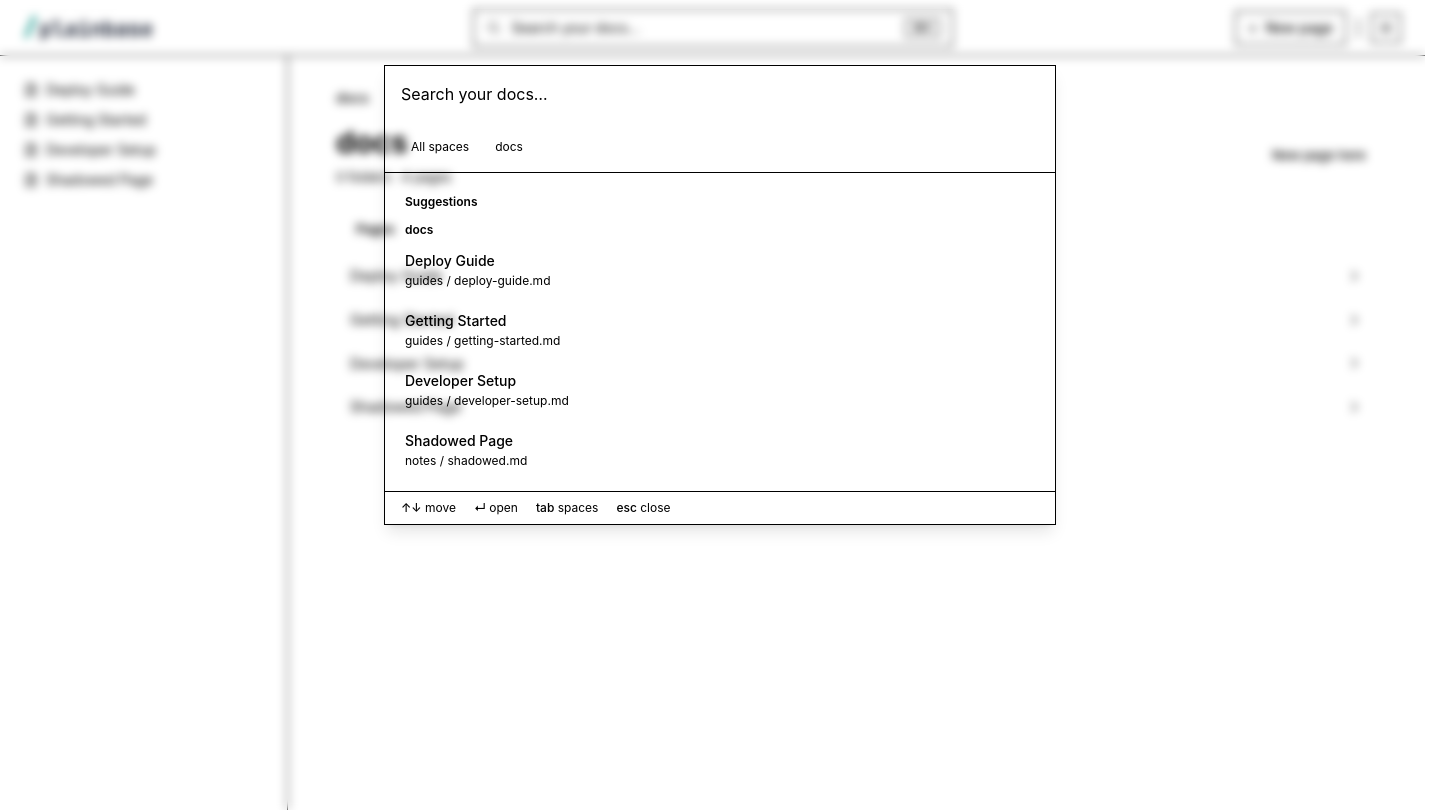
it: search palette › no-match copy names the SEARCHED query (the server's echo), not the live input
Expected: the button "Search your docs… ⌘K" is shown, [472,8,952,46]
Type "zzz" into the dropdown with placeholder "Search your docs…" at x=720, y=94, box [385,66,1055,122]
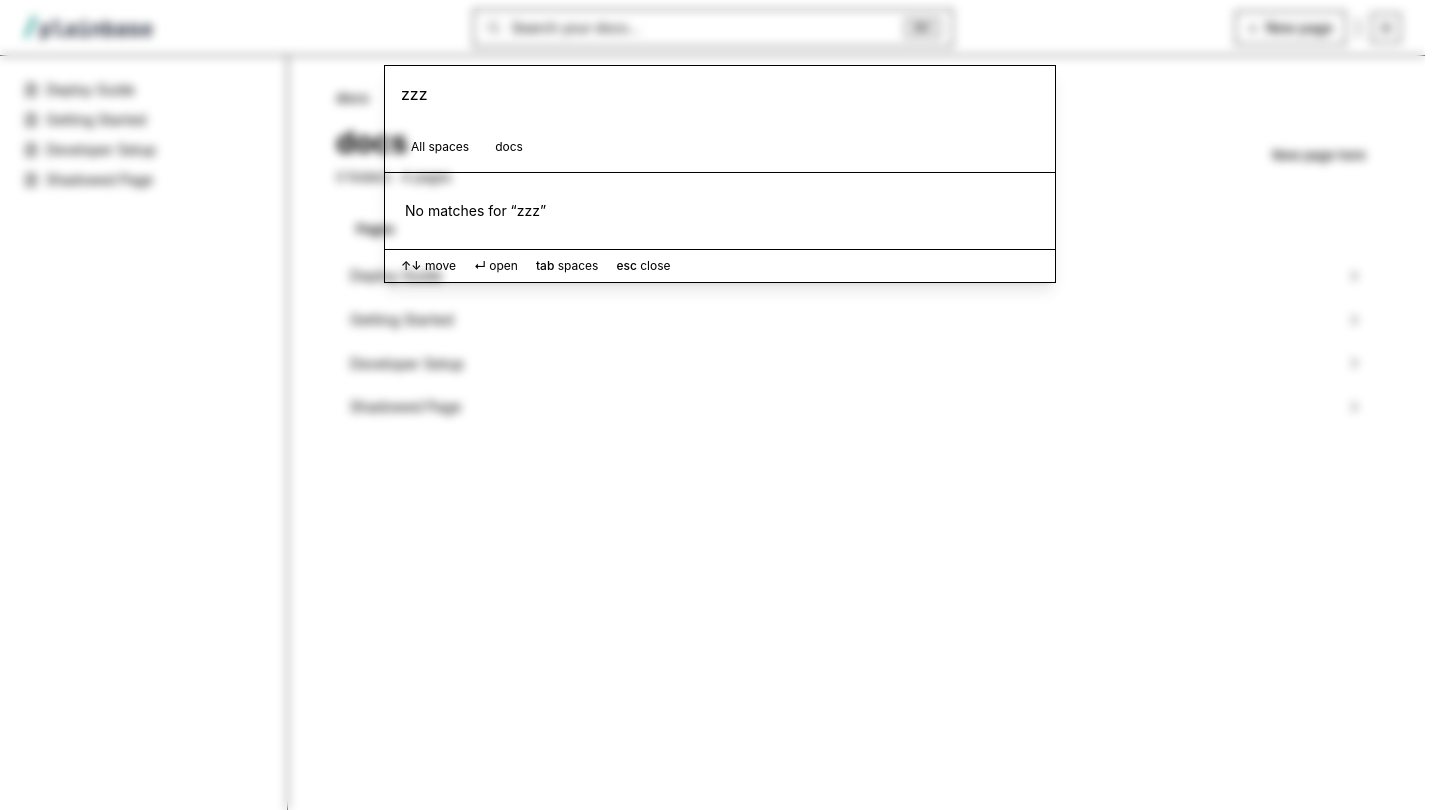
Expected: the list item "No matches for “zzz”" is shown, [405,202,546,219]
